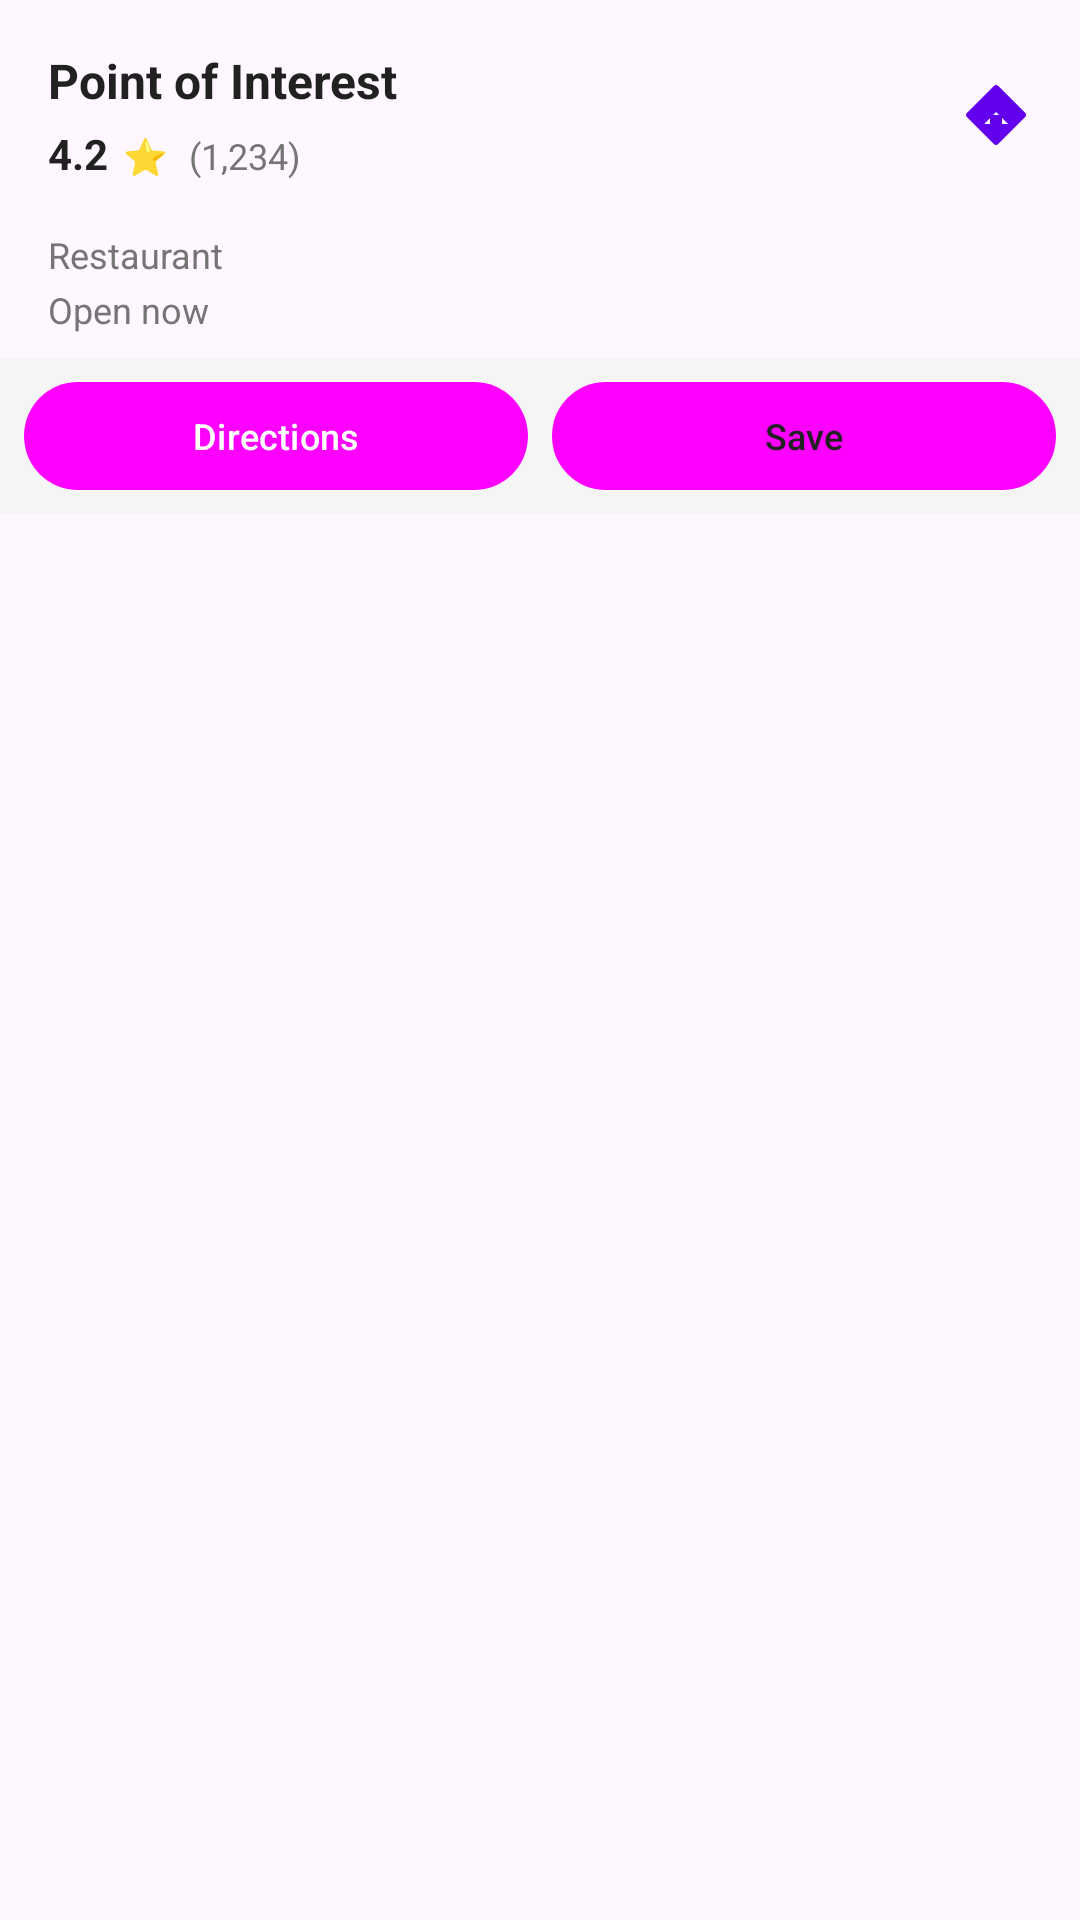

Point at icon controls on the screen. Image size 1080x1920, points as (x,y).
Directions: (996,115)
